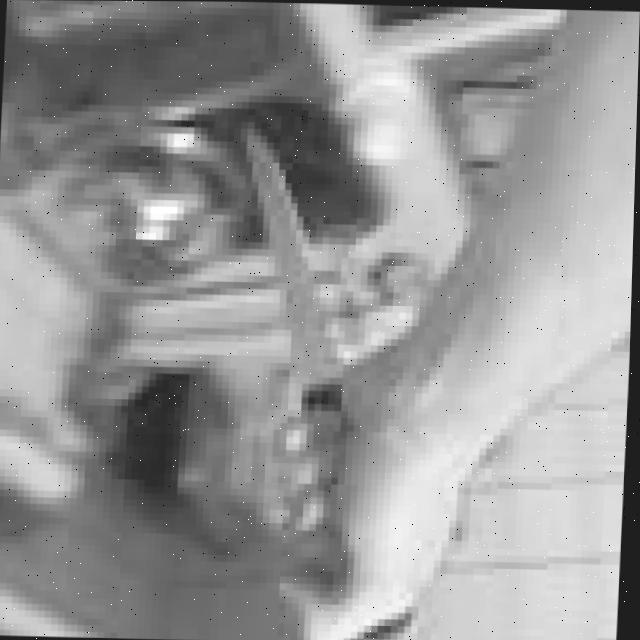knife: (220, 125, 342, 390)
